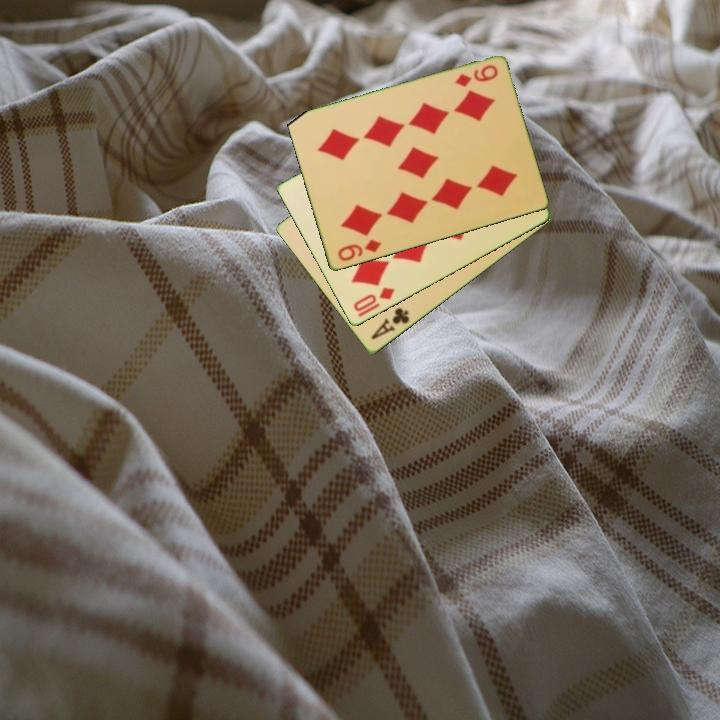10d: (350, 284, 397, 320)
9d: (334, 236, 384, 265), (451, 61, 501, 90)
Ac: (367, 304, 412, 343)
